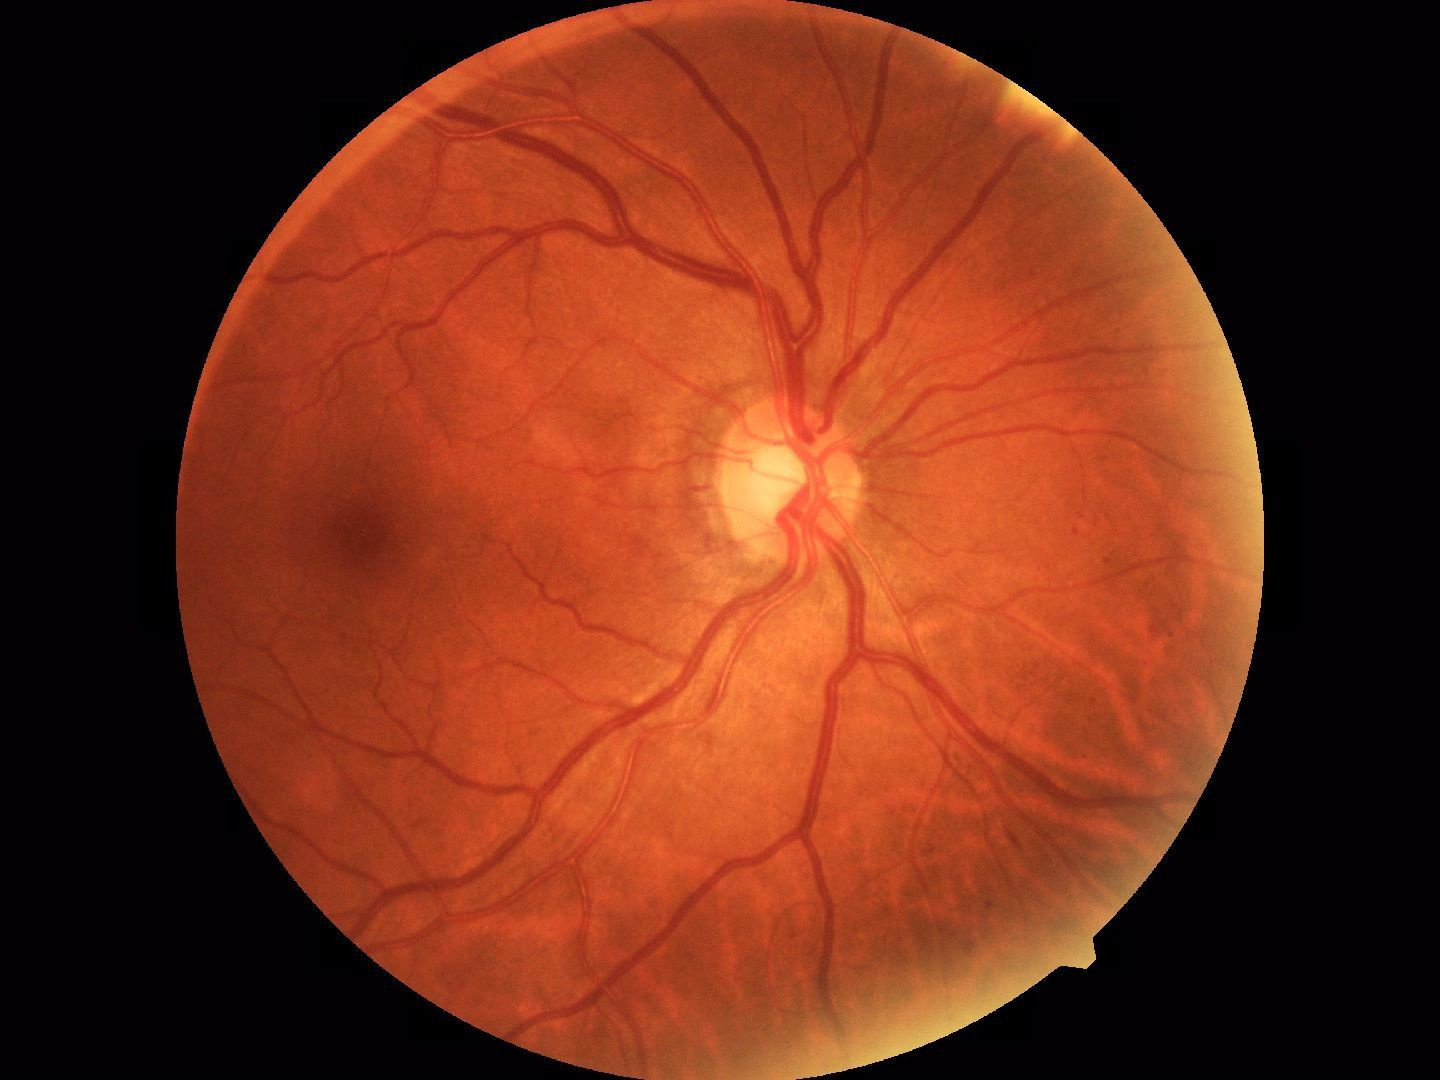Arterioles: (342, 698, 541, 903), (323, 242, 516, 363)
Hemorrhages: (300, 449, 451, 613)
Optic-Disc: (713, 380, 880, 598)
Venules: (595, 158, 901, 345), (819, 611, 937, 781)
